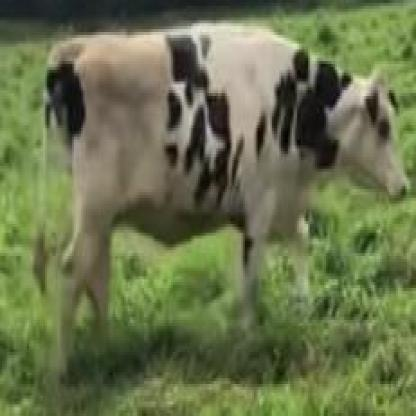cow: (48, 28, 408, 371)
